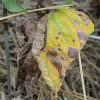Tomato Early blight leaf: (18, 8, 95, 92)
